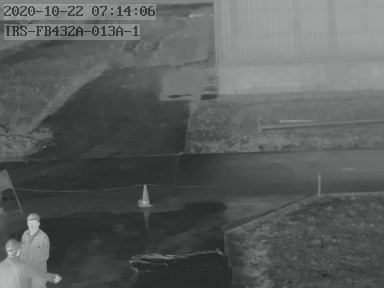person: (1, 212, 61, 288)
